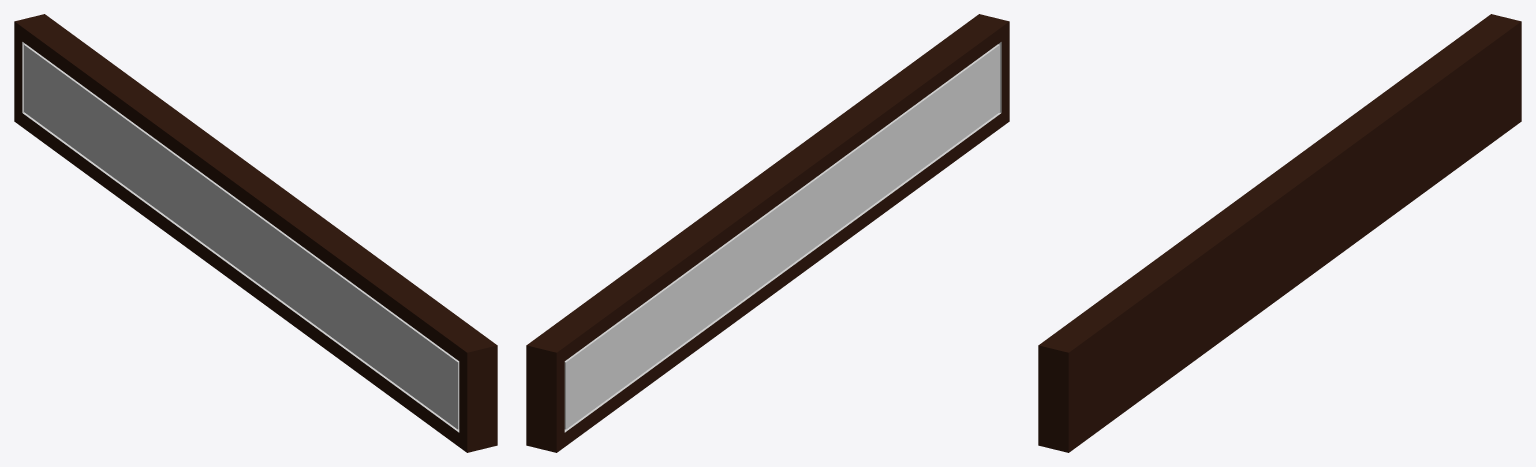
File: Lampe.fbx
3 renders of one model, left to right at view 1: azimuth 30°, elevation 25°; view 2: azimuth 150°, elevation 25°; view 3: azimuth 330°, elevation 25°, orthographic.
Parts seen in each view (by area): view 1: Cube.011, Cube.008; view 2: Cube.011, Cube.008; view 3: Cube.008.
Boxes of the visible parts, x1,y1,x2,y2 form: Cube.011: (22, 42, 459, 432); Cube.008: (14, 14, 497, 452); Cube.011: (564, 42, 1001, 432); Cube.008: (526, 14, 1009, 452); Cube.008: (1038, 14, 1521, 452).
Bounding box in the file's own units: 14.76 × 46.56 × 381.
